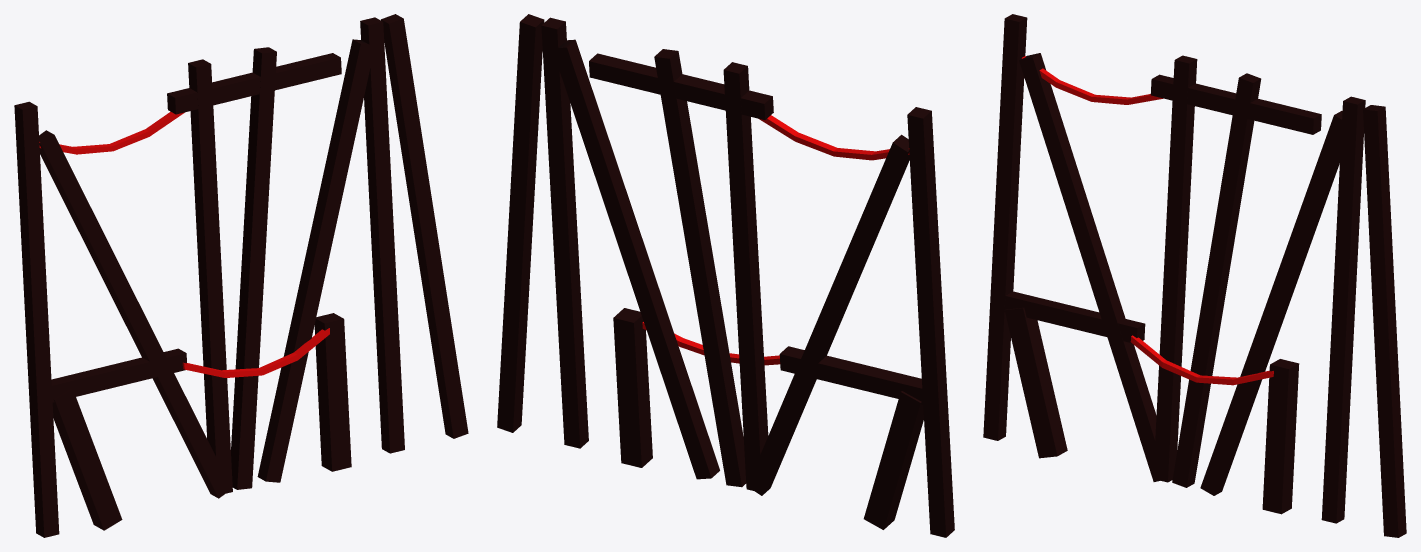
Rendered from Sticks_Prop.fbx.
3 views of the same model, side by side, from view 1: azimuth 30°, elevation 25°; view 2: azimuth 150°, elevation 25°; view 3: azimuth 330°, elevation 25° (orthographic). The views are drawn at different scales.
Parts seen in each view (by area): view 1: Stuff; view 2: Stuff; view 3: Stuff.
Part boxes in pixels (bbox=[...]): Stuff: bbox=[14, 14, 468, 537]; Stuff: bbox=[497, 14, 954, 537]; Stuff: bbox=[983, 14, 1406, 537].
Bounding box in the file's own units: 310 × 293 × 39.75.
